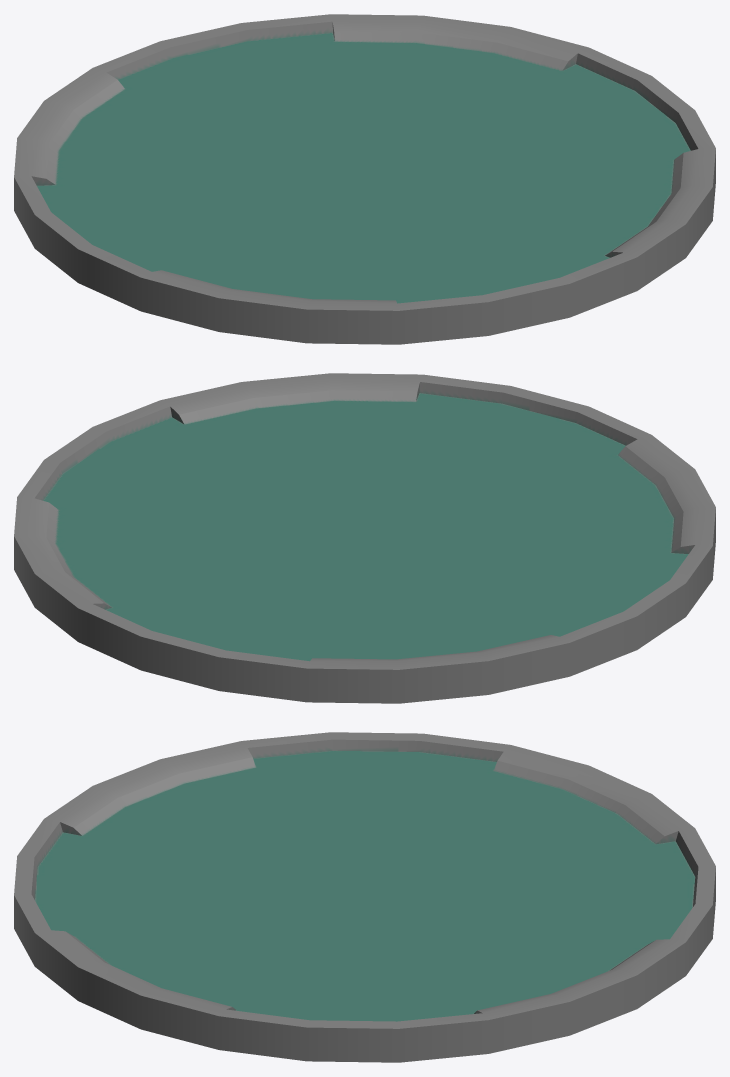
Rendered from park.fbx.
The picture shows the model from 3 angles, top to bottom: view 1: azimuth 30°, elevation 25°; view 2: azimuth 150°, elevation 25°; view 3: azimuth 270°, elevation 25°; orthographic projection.
Parts seen in each view (by area): view 1: park; view 2: park; view 3: park.
Part boxes in pixels (x1,y1,x2,y2): park: [14, 14, 715, 344]; park: [14, 373, 715, 703]; park: [14, 732, 715, 1062].
Size of the model in its own units: 38.67 by 2.06 by 38.67.
